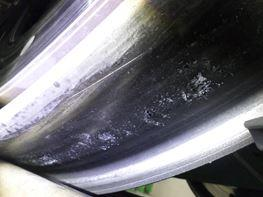Shelling: (181, 72, 218, 103), (140, 104, 172, 129), (75, 130, 94, 149), (96, 130, 117, 145), (36, 153, 59, 166)
